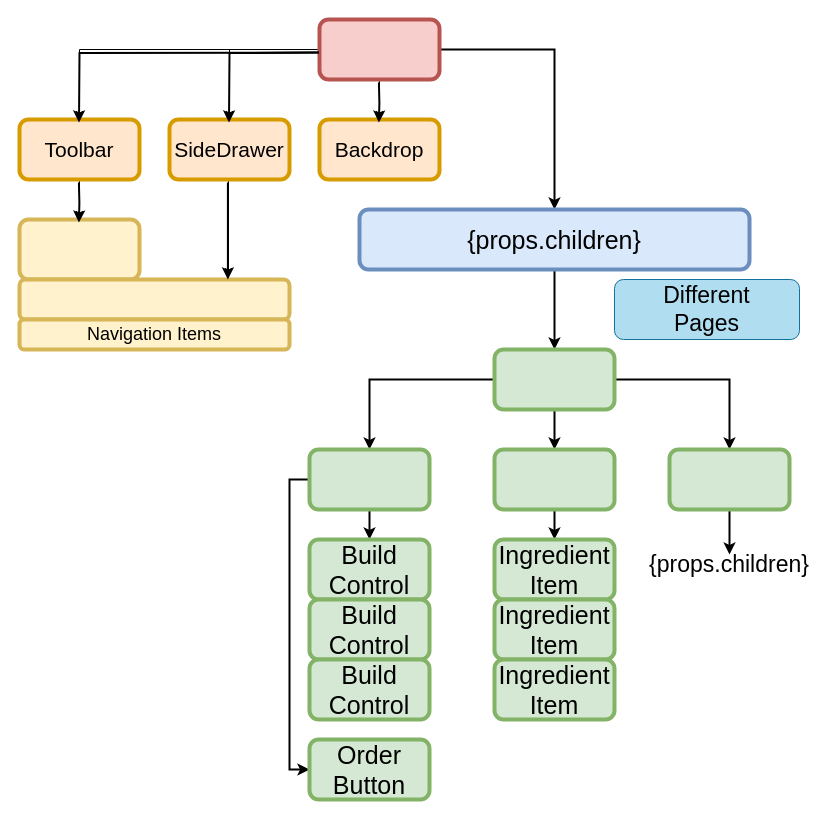
The diagram is 826 pixels wide and 818 high, and some of its shapes have lost their labels. Each missing label, with the centre of its shape:
"APP" goes at point 379,49.
"Build Controls" goes at point 369,479.
"Burger" goes at point 554,479.
"Burger Builder" goes at point 554,379.
"DrawerToggle" goes at point 79,249.
"Logo" goes at point 154,299.
"Modal" goes at point 729,479.
